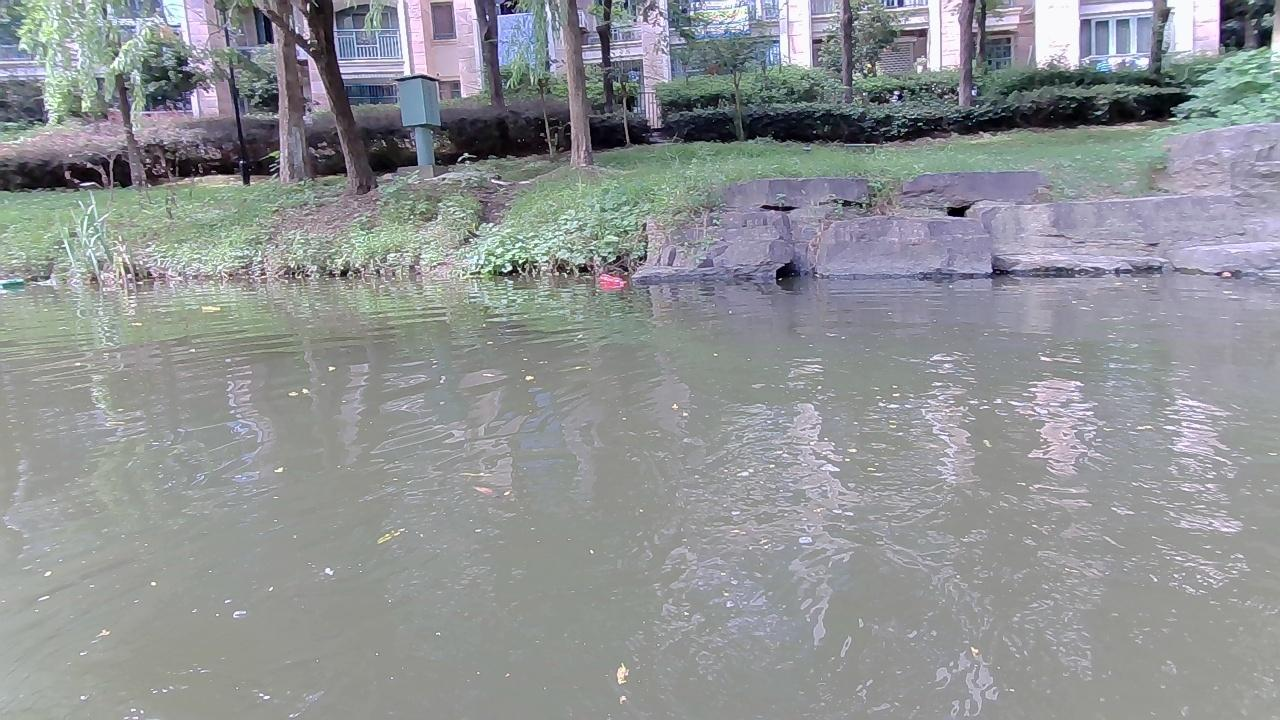bottle: (594, 271, 628, 289), (0, 276, 26, 288)
